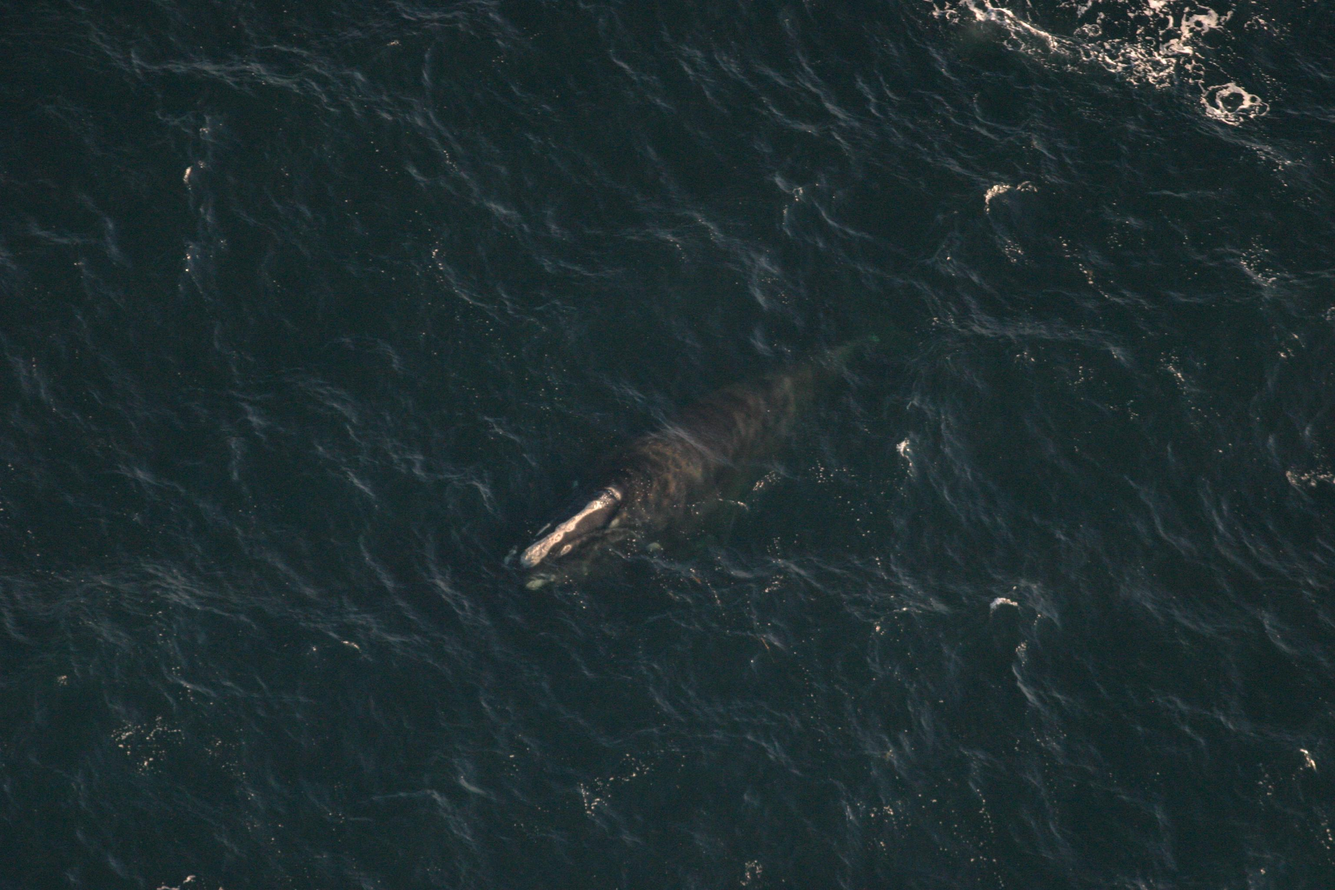whale: (496, 223, 973, 599)
